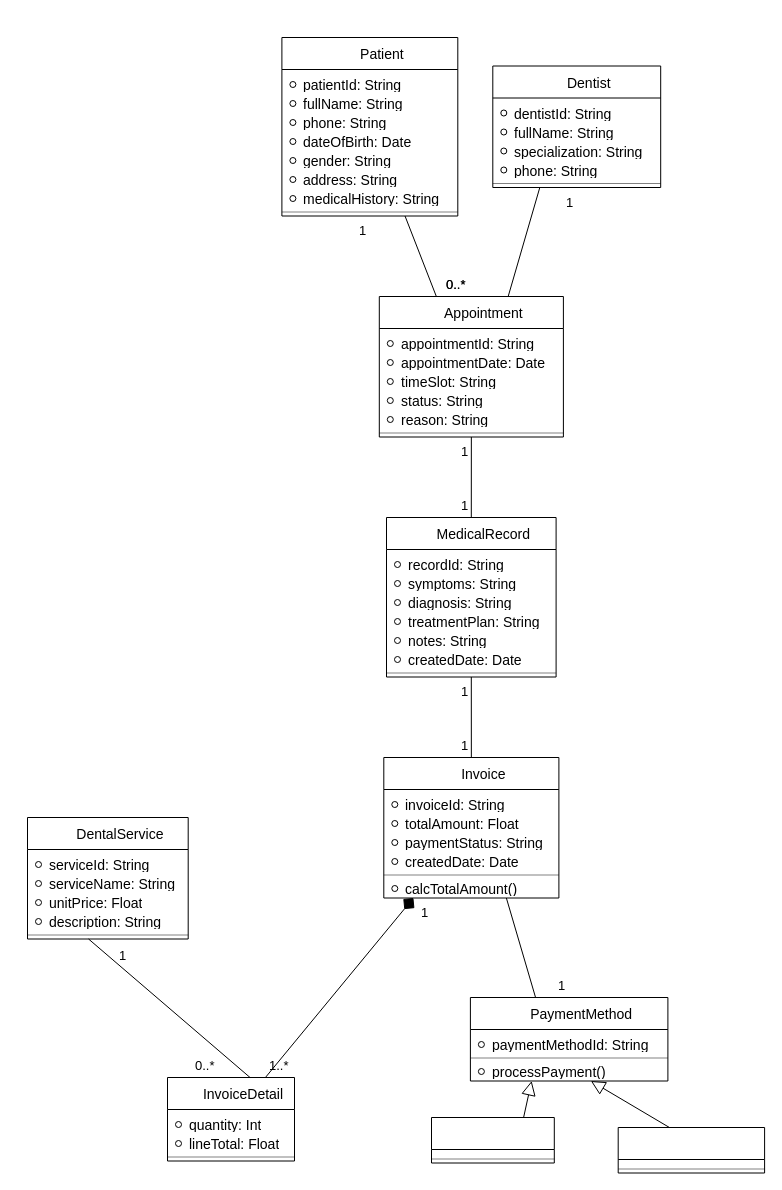
This 782x1190 diagram has some shape labels left out. The centre of each missing label's shape, as x and y in pixels:
"CashPayment" goes at (x=492, y=1139).
"TransferPayment" goes at (x=691, y=1149).
